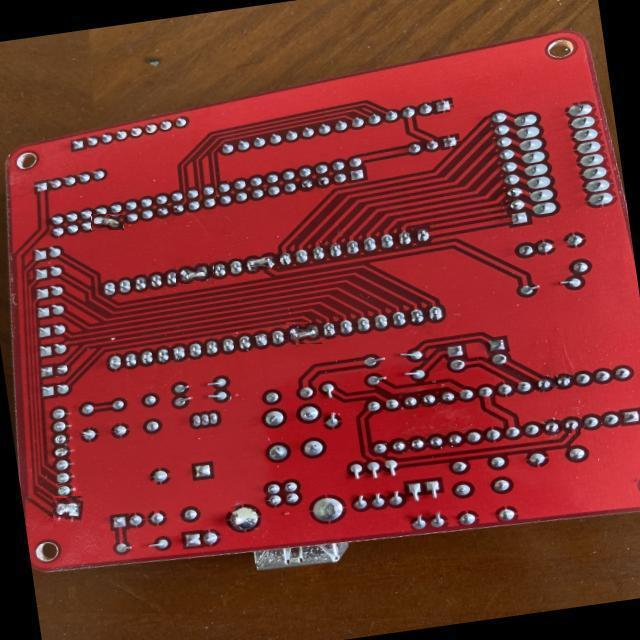damged: (54, 497, 84, 527), (241, 252, 276, 276), (176, 264, 214, 286), (286, 322, 322, 344), (91, 214, 124, 230)
